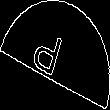P_S: (36, 25, 74, 85)
